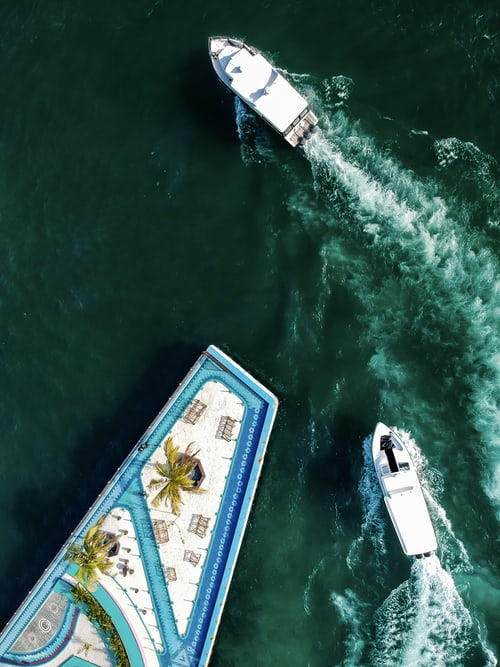yacht: (194, 24, 337, 151), (353, 406, 444, 567)
